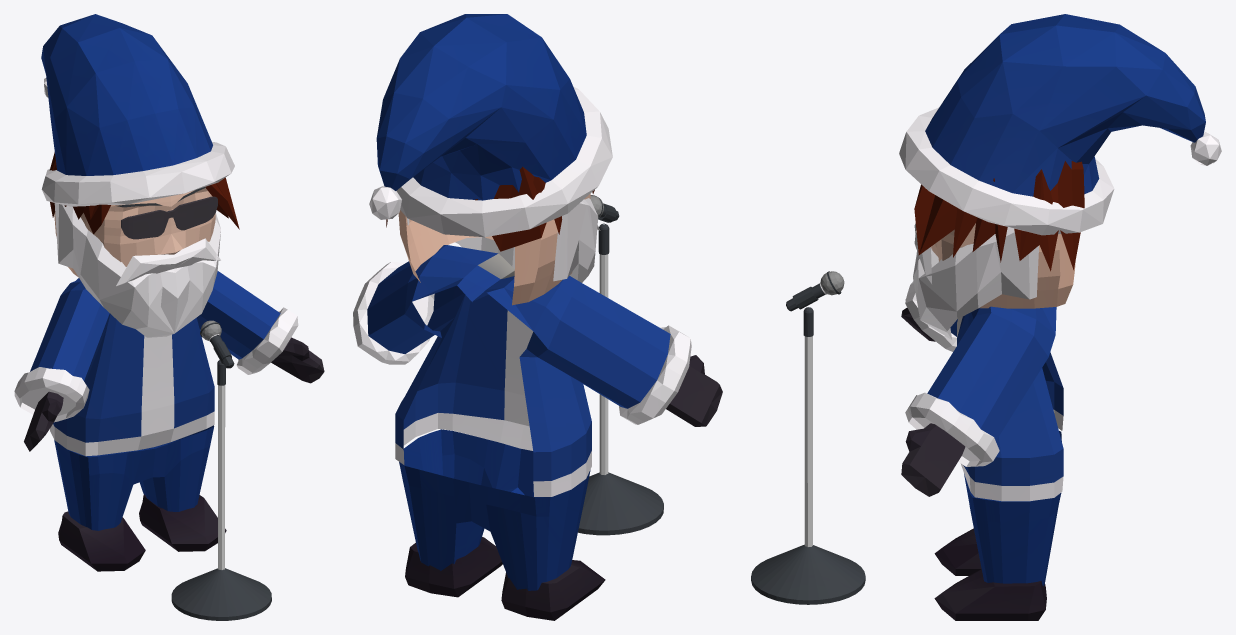
File: santa_f.glb
The picture shows the model from 3 angles, left to right: view 1: azimuth 30°, elevation 25°; view 2: azimuth 150°, elevation 25°; view 3: azimuth 270°, elevation 25°; orthographic projection. The views are drawn at different scales.
Visible parts, largest first — view 1: hontai-f, boushi-f, hige-f, zubon-f, stand, kao-f, kutu-r-f, kutu-l-f, sunguras-f, hanahige-f, kami-f, maiku; view 2: hontai-f, boushi-f, zubon-f, stand, kao-f, hige-f, kutu-r-f, kutu-l-f, kami-f; view 3: boushi-f, hontai-f, hige-f, stand, zubon-f, kami-f, kutu-l-f, kao-f, kutu-r-f, maiku.
Boxes of the visible parts, x1,y1,x2,y2 form: hontai-f: (14, 271, 324, 456); boushi-f: (41, 14, 234, 206); hige-f: (54, 203, 220, 337); zubon-f: (54, 425, 214, 530); stand: (171, 360, 271, 620); kao-f: (54, 187, 215, 277); kutu-r-f: (58, 511, 145, 571); kutu-l-f: (139, 494, 226, 551); sunguras-f: (121, 196, 217, 239); hanahige-f: (116, 238, 220, 286); kami-f: (49, 152, 239, 234); maiku: (200, 320, 234, 368); hontai-f: (353, 245, 722, 496); boushi-f: (369, 14, 612, 237); zubon-f: (399, 429, 590, 590); stand: (578, 223, 663, 535); kao-f: (398, 194, 590, 305); hige-f: (407, 198, 598, 282); kutu-r-f: (501, 560, 605, 620); kutu-l-f: (405, 537, 502, 597); kami-f: (386, 166, 594, 251); boushi-f: (899, 14, 1221, 235); hontai-f: (901, 281, 1063, 501); hige-f: (913, 227, 1038, 339); stand: (751, 307, 865, 604); zubon-f: (964, 431, 1061, 586); kami-f: (914, 161, 1084, 271); kutu-l-f: (934, 569, 1046, 620); kao-f: (931, 223, 1075, 308); kutu-r-f: (934, 528, 981, 575); maiku: (786, 271, 844, 311).
Bounding box in the file's own units: 5.41 × 8.95 × 6.77.
Materials: 17 (16 with a texture image).
